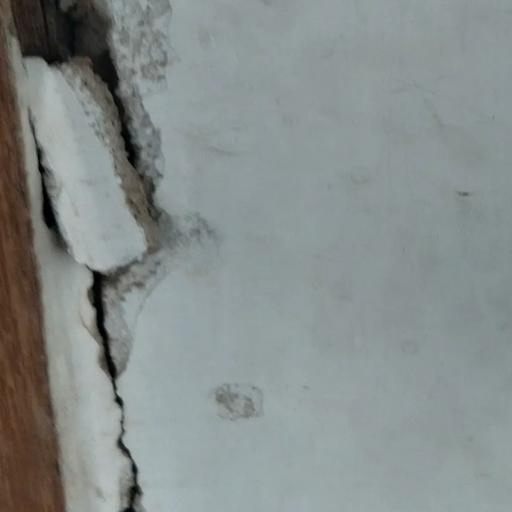spalling: (14, 0, 195, 512)
